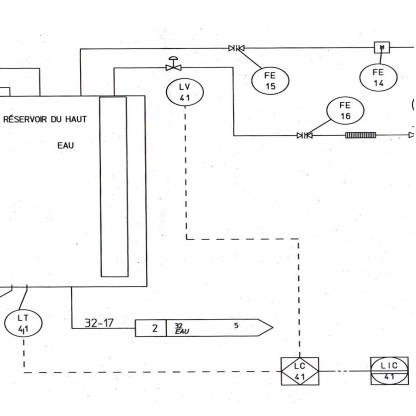LMI: (162, 73, 208, 107), (356, 64, 403, 93), (3, 310, 50, 338), (251, 66, 294, 96), (325, 96, 365, 125)
